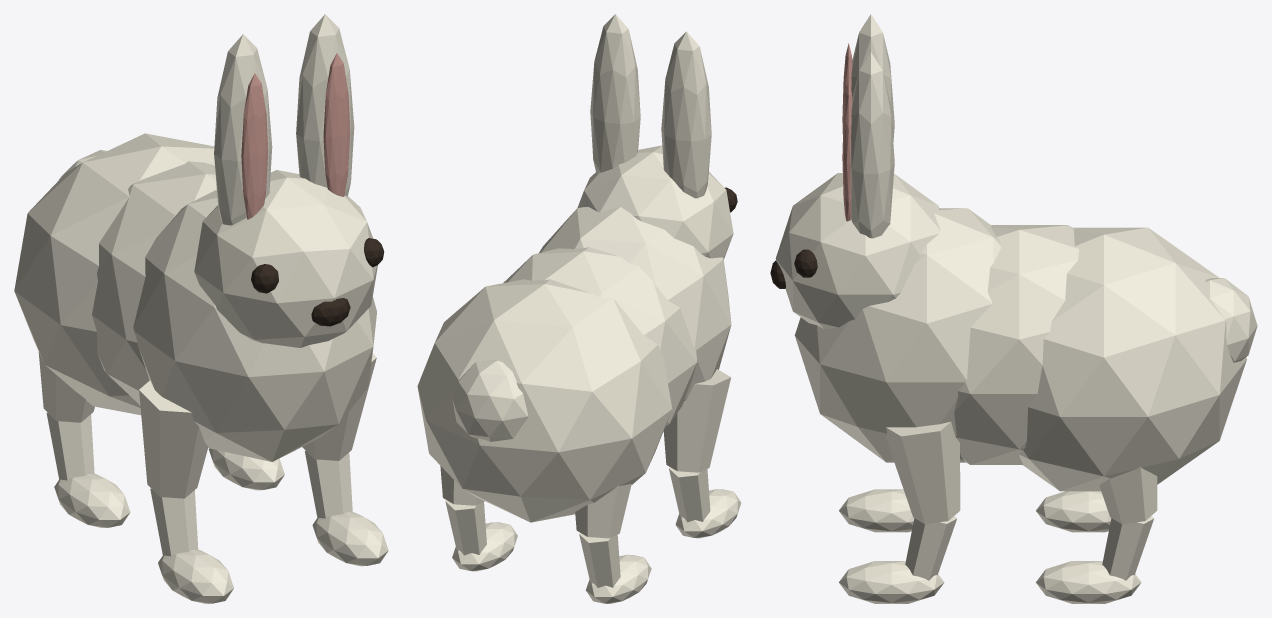
Rendered from Rabbit.fbx.
3 views of the same model, side by side, from view 1: azimuth 30°, elevation 25°; view 2: azimuth 150°, elevation 25°; view 3: azimuth 270°, elevation 25° (orthographic). The views are drawn at different scales.
Parts seen in each view (by area): view 1: Chest.001, Head.001, Haunch, Body.001, Long ear, Upper leg.004, Long ear.001, Inner ear.001, Inner ear, Foot.004, Foot.005, Foot.006 (+8 smaller); view 2: Haunch, Chest.001, Body.001, Head.001, Long ear, Long ear.001, Tail.001, Upper leg.004, Upper leg.005, Foot.007, Foot.004, Foot.005 (+4 smaller); view 3: Haunch, Chest.001, Body.001, Head.001, Long ear.001, Upper leg.006, Foot.007, Foot.006, Foot.004, Foot.005, Upper leg.007, Tail.001 (+4 smaller).
Boxes of the visible parts, bbox=[...] form: Chest.001: bbox=[133, 189, 376, 461]; Head.001: bbox=[194, 170, 377, 347]; Haunch: bbox=[14, 133, 214, 415]; Body.001: bbox=[92, 161, 216, 405]; Long ear: bbox=[214, 34, 272, 225]; Upper leg.004: bbox=[139, 380, 208, 498]; Long ear.001: bbox=[296, 14, 354, 196]; Inner ear.001: bbox=[323, 53, 350, 196]; Inner ear: bbox=[241, 73, 268, 219]; Foot.004: bbox=[158, 549, 233, 603]; Foot.005: bbox=[54, 473, 130, 527]; Foot.006: bbox=[312, 512, 388, 566]; Haunch: bbox=[417, 279, 672, 522]; Chest.001: bbox=[539, 207, 731, 400]; Body.001: bbox=[503, 247, 697, 428]; Head.001: bbox=[577, 145, 733, 259]; Long ear: bbox=[661, 31, 711, 198]; Long ear.001: bbox=[590, 14, 640, 174]; Tail.001: bbox=[452, 360, 527, 441]; Upper leg.004: bbox=[663, 369, 730, 472]; Upper leg.005: bbox=[575, 484, 631, 538]; Foot.007: bbox=[452, 522, 517, 571]; Foot.004: bbox=[675, 489, 741, 538]; Foot.005: bbox=[585, 554, 651, 603]; Haunch: bbox=[1018, 227, 1246, 491]; Chest.001: bbox=[794, 208, 1001, 462]; Body.001: bbox=[954, 225, 1078, 464]; Head.001: bbox=[775, 173, 940, 328]; Long ear.001: bbox=[850, 52, 894, 238]; Upper leg.006: bbox=[886, 421, 960, 524]; Foot.007: bbox=[1036, 561, 1141, 603]; Foot.006: bbox=[839, 561, 944, 603]; Foot.004: bbox=[839, 489, 914, 532]; Foot.005: bbox=[1036, 491, 1111, 532]; Upper leg.007: bbox=[1099, 466, 1157, 524]; Tail.001: bbox=[1205, 278, 1257, 362].
Size of the model in its own units: 0.5136 by 1.11 by 0.92.
